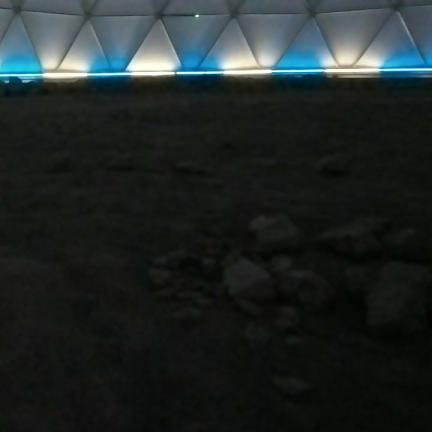Rock: (365, 261, 431, 335), (318, 217, 427, 261), (223, 258, 275, 301), (249, 214, 304, 253), (280, 270, 334, 308), (152, 249, 203, 269), (272, 375, 313, 398), (316, 153, 352, 175), (245, 323, 271, 346), (44, 153, 73, 173), (275, 307, 299, 331), (234, 298, 263, 317), (173, 160, 209, 175), (149, 268, 173, 286), (173, 308, 202, 322), (155, 287, 178, 299), (285, 336, 305, 347)
